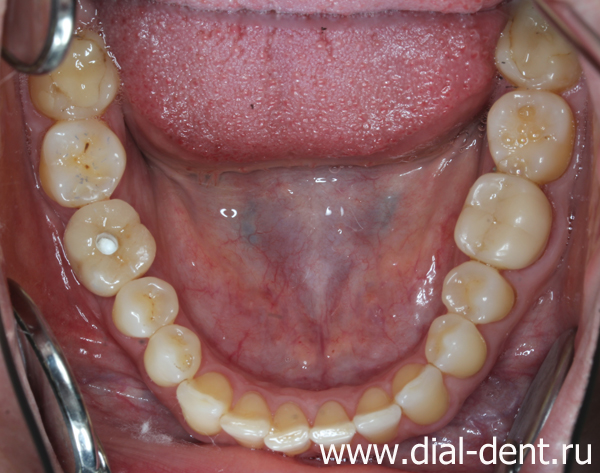LL1BC_healthy: (425, 315, 485, 377)
LL1M_healthy: (454, 173, 552, 269)
LL2BC_healthy: (442, 262, 515, 323)
LL2M_decay: (486, 89, 574, 179)
LL3M_decay: (495, 36, 580, 88)
LLCI_healthy: (309, 402, 354, 443)
LLC_healthy: (394, 363, 447, 423)
LLLI_healthy: (354, 388, 401, 439)
LR1BC_healthy: (144, 325, 200, 385)
LR1M_decay: (65, 200, 156, 297)
LR2BC_decay: (112, 277, 179, 335)
LR2M_decay: (38, 121, 125, 207)
LR3M_decay: (28, 74, 118, 118)
LRCI_healthy: (267, 404, 309, 453)
LRC_healthy: (177, 373, 232, 434)
LRLI_healthy: (223, 392, 269, 446)
